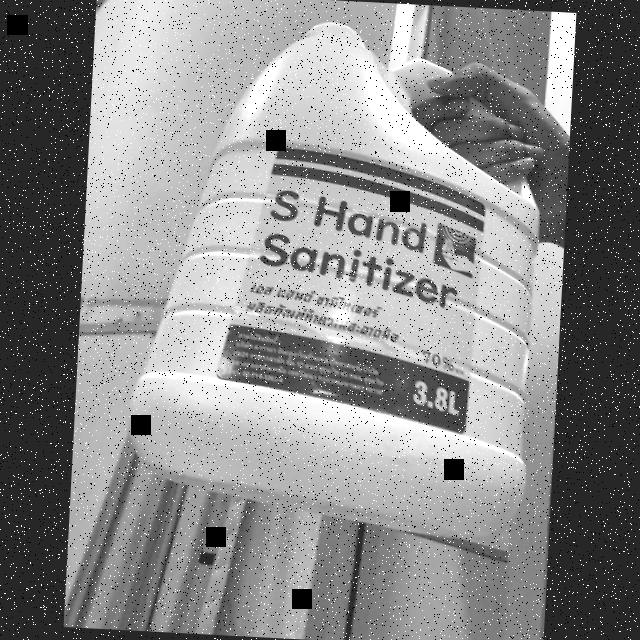chemical_plastic_gallon: (117, 12, 551, 546)
